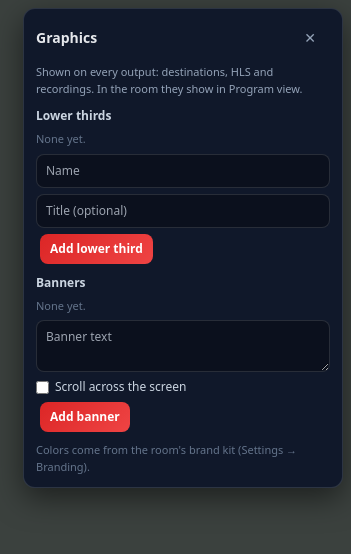
Test case: GraphicsPanel › adds a lower third and shows it live
This screenshot has width=351, height=554.
Type " Jane Doe " into the field named "Lower third name". click: (183, 170)
box: left=36, top=154, right=330, bottom=188
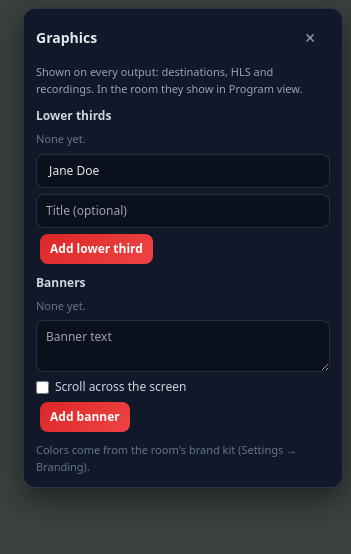
Type "CEO" into the field named "Lower third title". click: (183, 210)
box: left=36, top=194, right=330, bottom=228
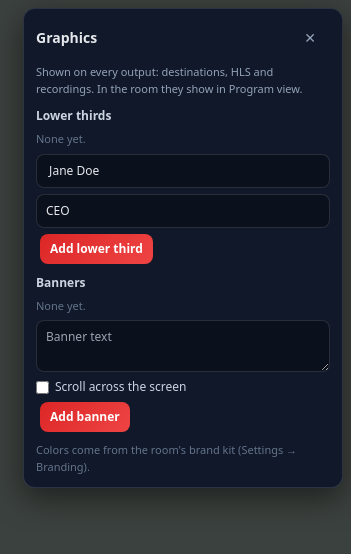
Click the button "Add lower third". click: (96, 248)
box: left=40, top=234, right=153, bottom=264
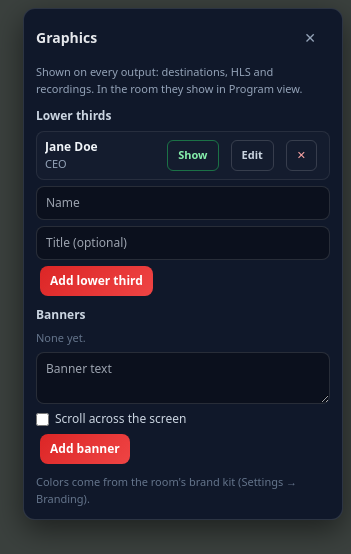
Expected: the element with test id "lower-third-row" shows "Jane Doe", left=45, top=138, right=98, bottom=155
Click the button "Show". click: (193, 155)
box: left=167, top=140, right=218, bottom=170
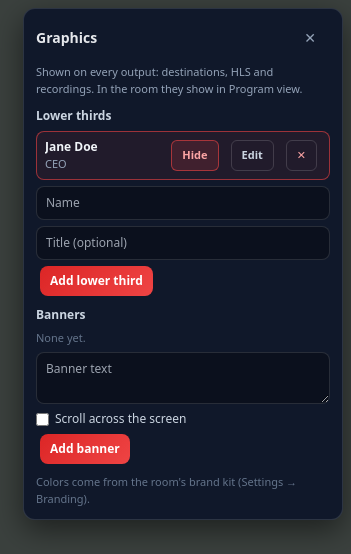
Expected: the button "Hide" is shown, left=171, top=140, right=218, bottom=170
